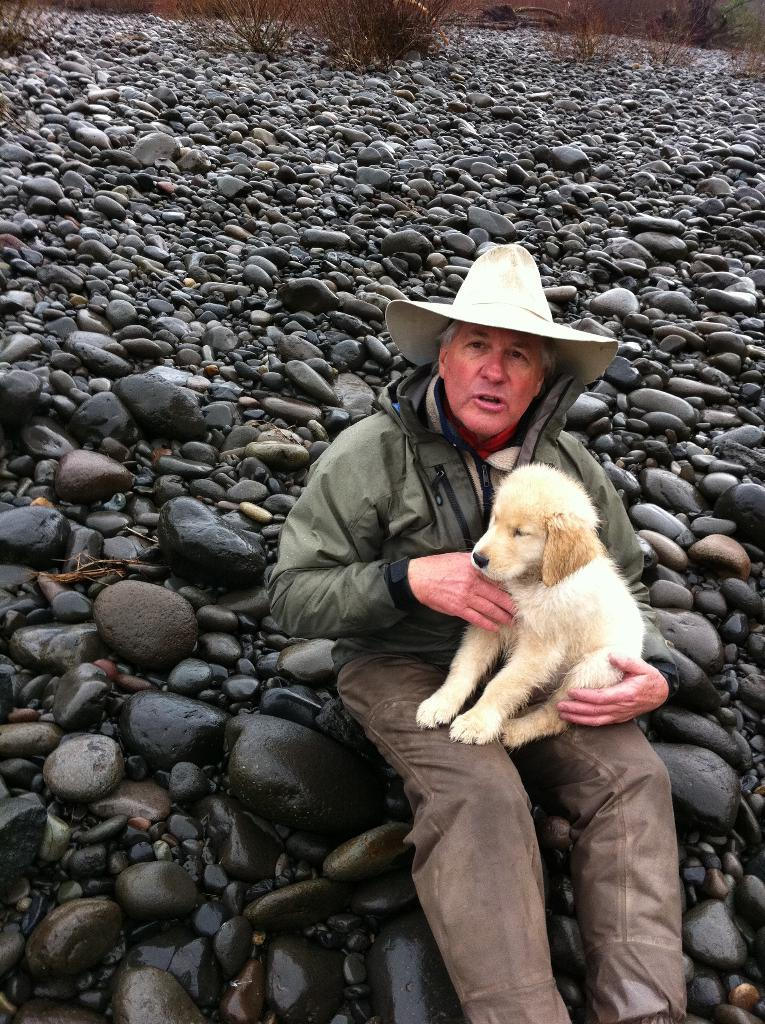Hat: (388, 242, 618, 383)
